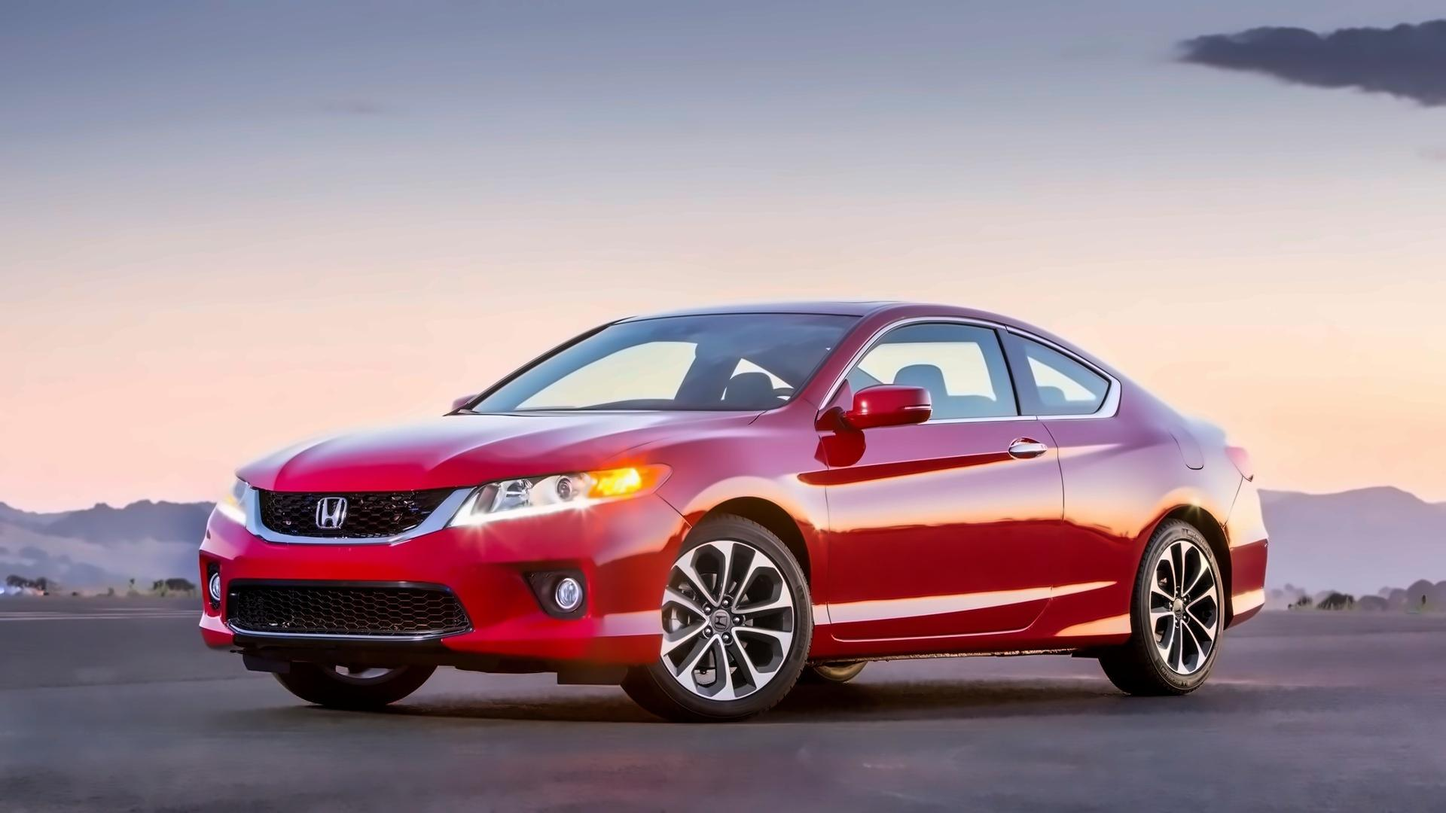Car hood: (232, 402, 763, 497)
Fender - -F-L-: (657, 392, 830, 658)
Fender - -R-L-: (1122, 422, 1245, 651)
Front bumper: (187, 523, 688, 683)
Headlight - -L-: (435, 456, 681, 533)
Headlight - -R-: (207, 465, 283, 545)
Passenger-s door - -F-L-: (824, 303, 1069, 639)
Rear bumper: (1223, 465, 1277, 632)
Rear light - -L-: (1213, 428, 1263, 486)
Side bumper - -L-: (801, 596, 1144, 669)
Side mirror - -L-: (835, 380, 935, 441)
Side mirror - -R-: (441, 384, 489, 420)
